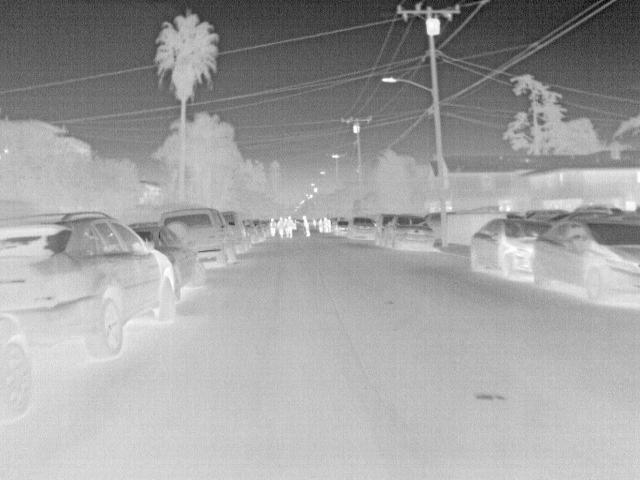car: (2, 209, 177, 360), (533, 217, 638, 301), (131, 225, 203, 298), (470, 218, 550, 276), (156, 207, 237, 264), (2, 312, 33, 425), (384, 215, 437, 250), (224, 210, 250, 252), (347, 217, 378, 242), (375, 212, 397, 245), (423, 210, 443, 241), (240, 218, 259, 244), (252, 219, 267, 242), (334, 220, 351, 236)
person: (298, 214, 314, 236), (283, 215, 296, 237), (277, 216, 285, 239), (269, 216, 277, 237), (317, 218, 325, 234), (324, 215, 330, 234)
